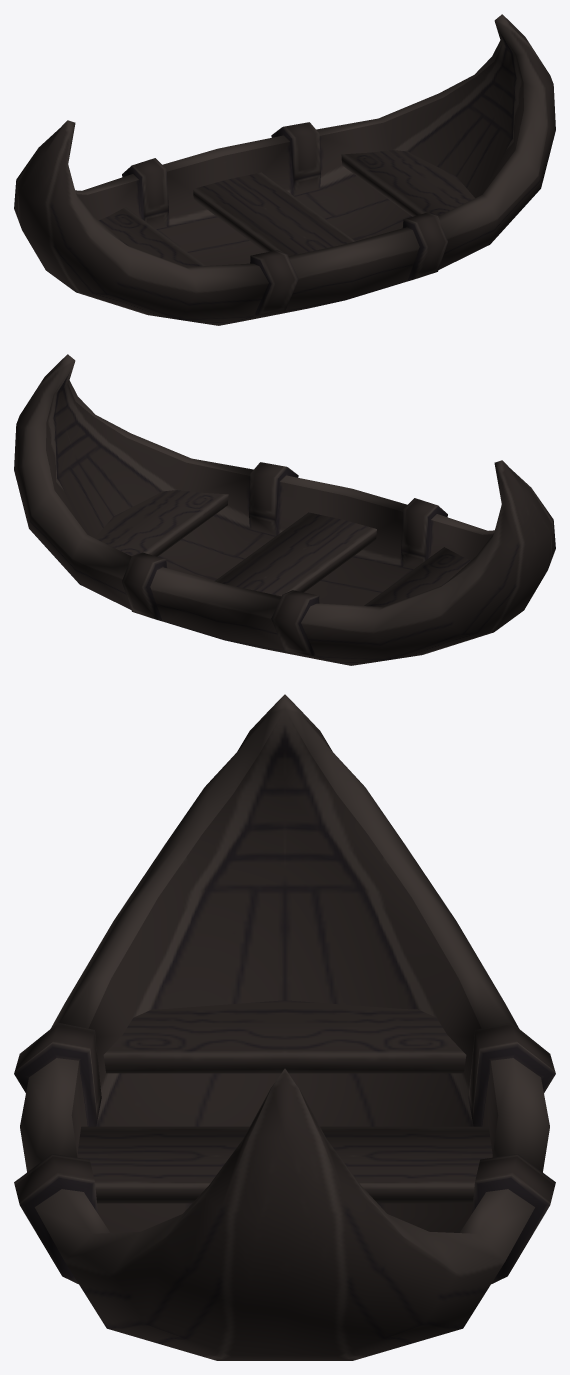
File: prop_temple_boat.fbx
3 renders of one model, top to bottom at view 1: azimuth 30°, elevation 25°; view 2: azimuth 150°, elevation 25°; view 3: azimuth 270°, elevation 25°, orthographic. The views are drawn at different scales.
Parts seen in each view (by area): view 1: boat; view 2: boat; view 3: boat.
Boxes of the visible parts, box(x1,y1,x2,y2) form: boat: box(14, 14, 555, 325); boat: box(14, 354, 555, 665); boat: box(14, 694, 555, 1360).
Size of the model in its own units: 3.13 by 1.3 by 1.61.
Materials: 1 (1 with a texture image).
